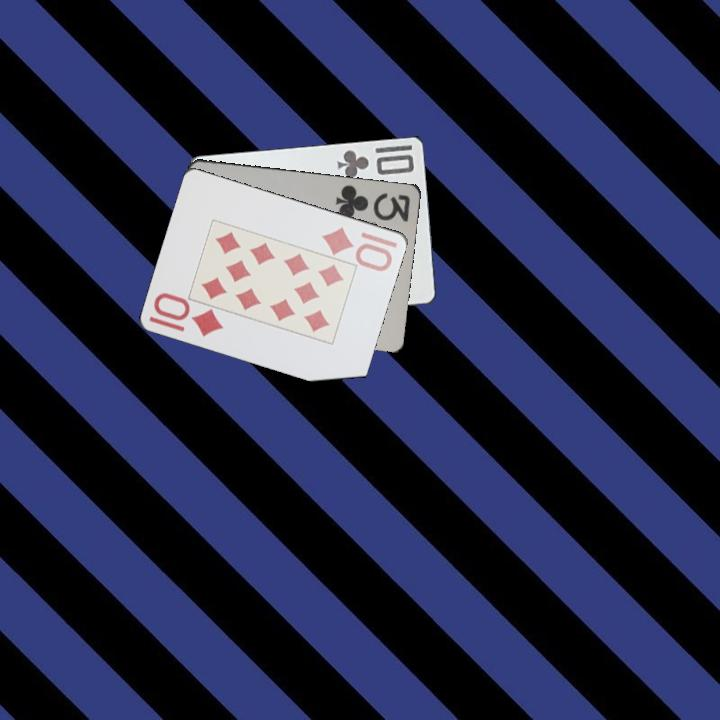3c: (332, 181, 413, 225)
Tc: (333, 146, 417, 181)
Td: (318, 223, 401, 272), (146, 290, 227, 340)
